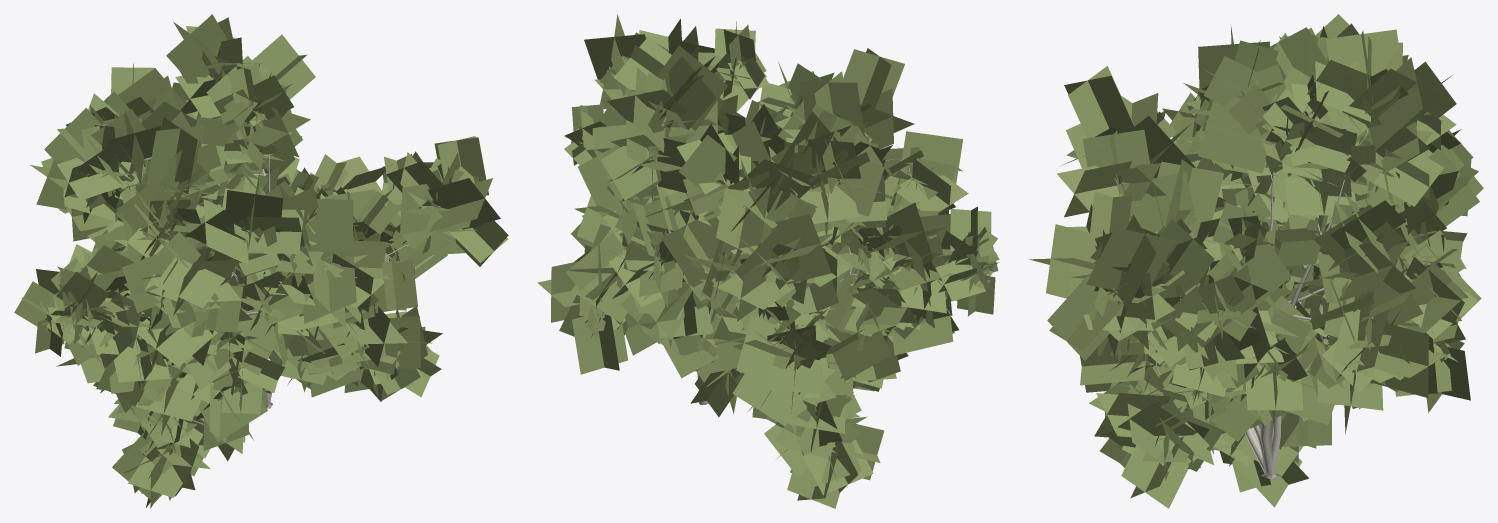
The model's file is bush_a.glb.
3 views of the same model, side by side, from view 1: azimuth 30°, elevation 25°; view 2: azimuth 150°, elevation 25°; view 3: azimuth 270°, elevation 25° (orthographic). The views are drawn at different scales.
Parts seen in each view (by area): view 1: leaves; view 2: leaves; view 3: leaves, branches.
Part boxes in pixels (x1,y1,x2,y2): leaves: [14, 14, 508, 508]; leaves: [537, 14, 999, 508]; leaves: [1029, 14, 1483, 508]; branches: [1110, 114, 1435, 479].
Size of the model in its own units: 33.56 by 33.16 by 26.21.
